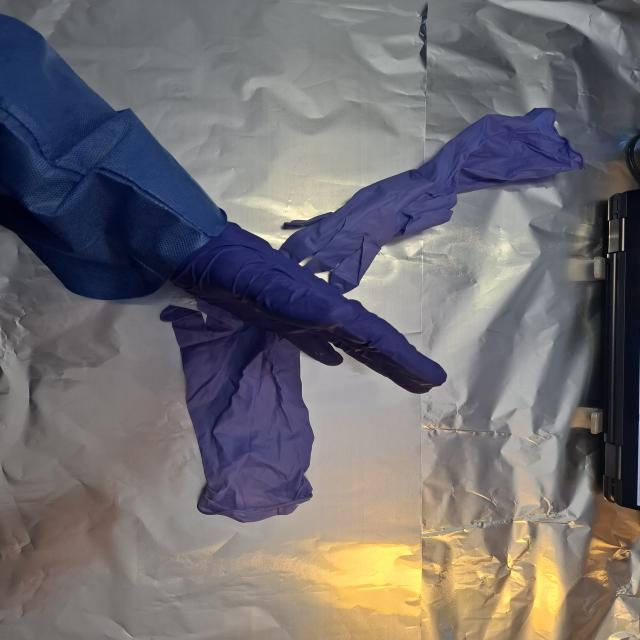glove_on: (157, 215, 450, 396)
